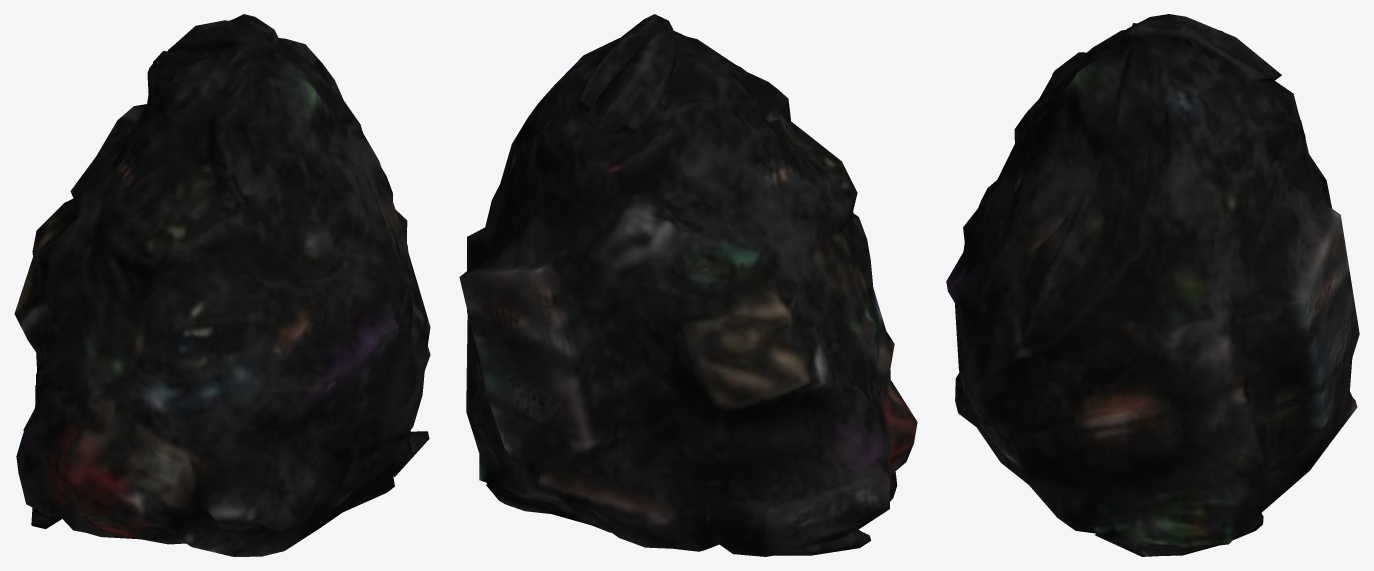
File: trashbag.glb
The picture shows the model from 3 angles, left to right: view 1: azimuth 30°, elevation 25°; view 2: azimuth 150°, elevation 25°; view 3: azimuth 270°, elevation 25°; orthographic projection. The views are drawn at different scales.
Visible parts, largest first — view 1: trashbag; view 2: trashbag; view 3: trashbag.
Part boxes in pixels (box(x1,y1,x2,y2)): trashbag: box(14, 14, 430, 556); trashbag: box(459, 14, 917, 556); trashbag: box(946, 14, 1359, 556).
Size of the model in its own units: 0.5236 by 0.5725 by 0.4629.
1 material, 1 textured.
